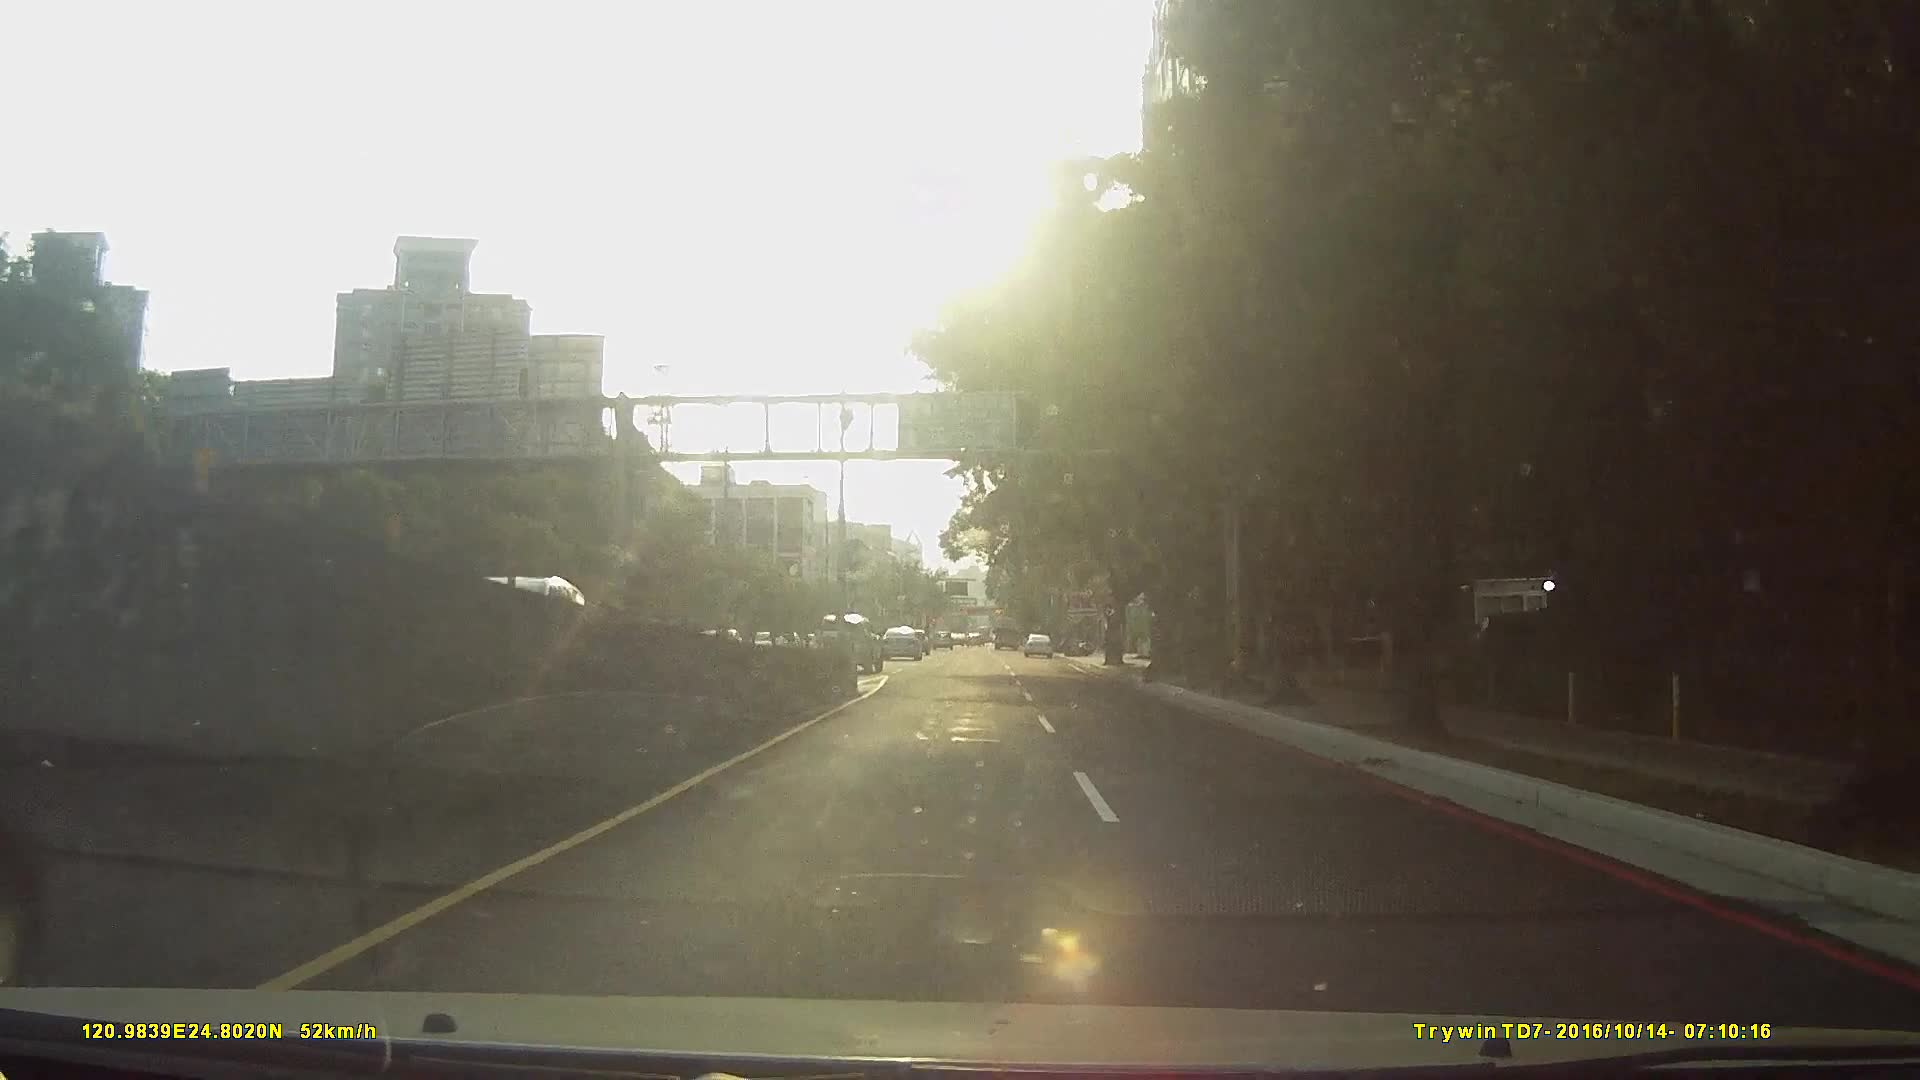vehicle: (818, 612, 884, 674), (878, 624, 922, 659), (989, 611, 1022, 646), (1022, 632, 1055, 658)
